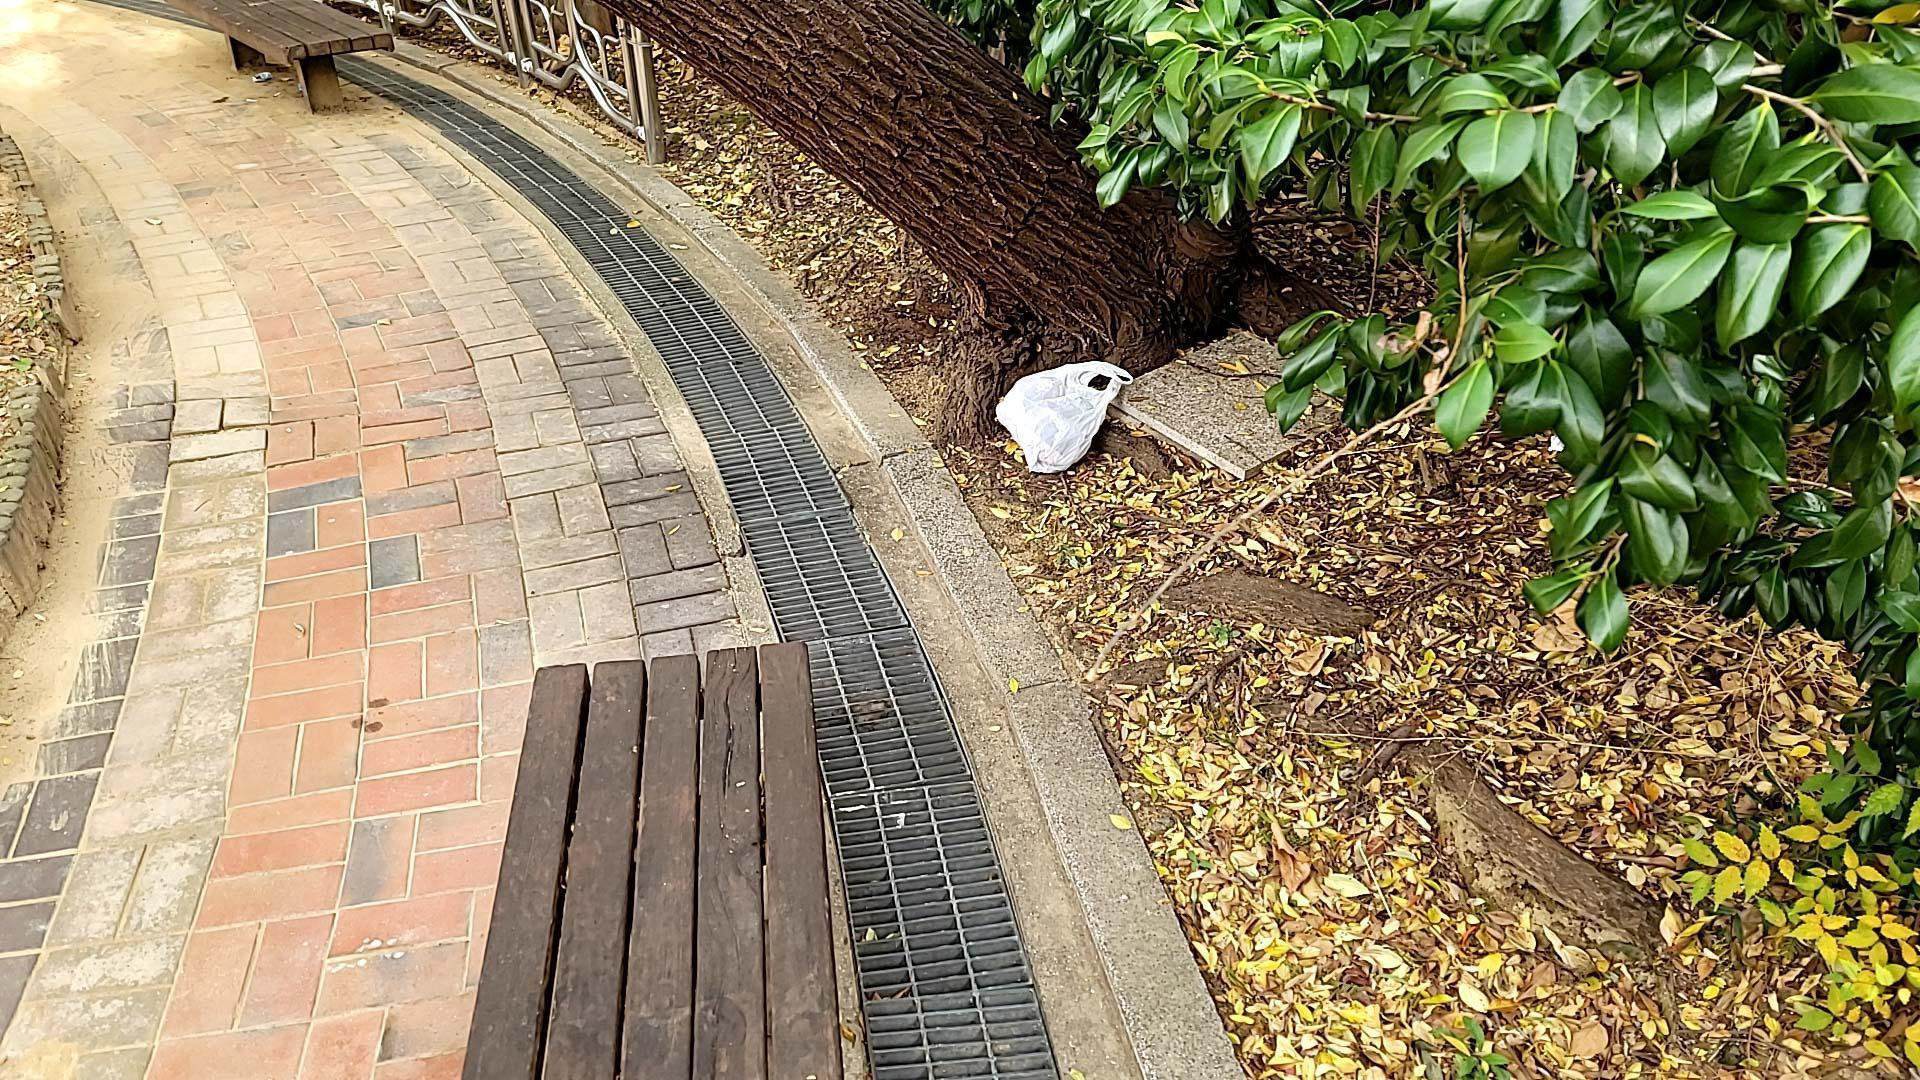white_bag: (985, 353, 1131, 487)
